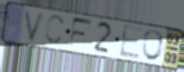2: (92, 20, 114, 57)
C: (43, 14, 67, 47)
E: (119, 23, 145, 60)
F: (67, 16, 94, 51)
O: (139, 29, 167, 63)
V: (23, 9, 48, 44)
